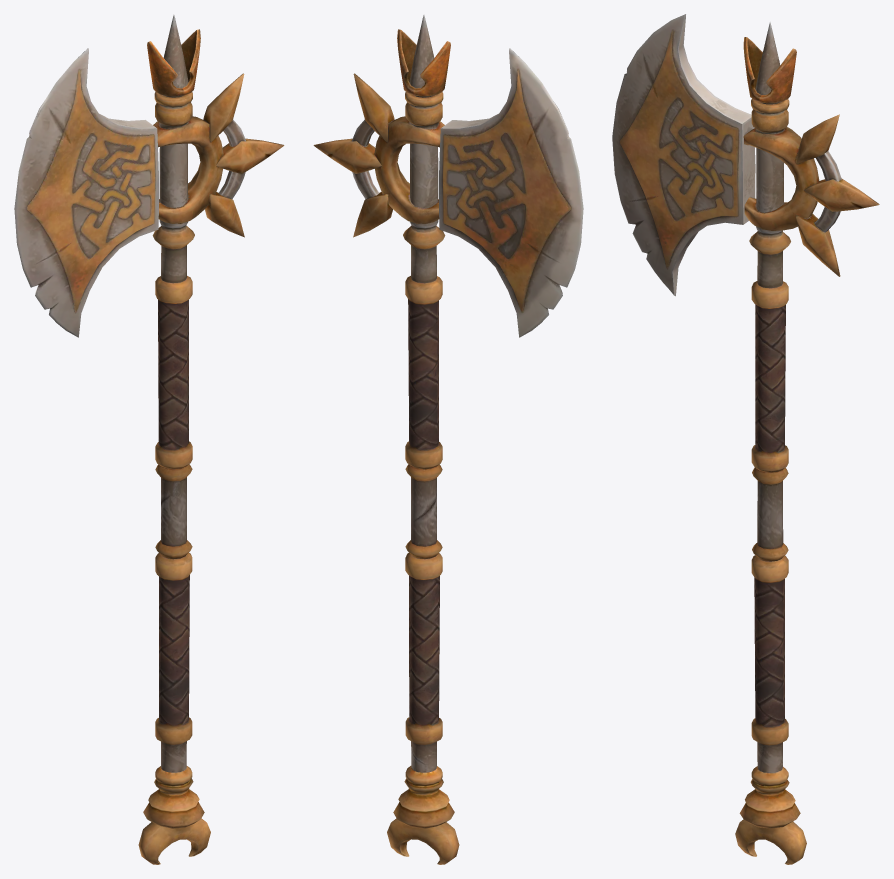
The picture shows the model from 3 angles, left to right: view 1: azimuth 30°, elevation 25°; view 2: azimuth 150°, elevation 25°; view 3: azimuth 330°, elevation 25°; orthographic projection.
Parts seen in each view (by area): view 1: SM_Greataxe_ThanesAuthority_2H_01_LOD0; view 2: SM_Greataxe_ThanesAuthority_2H_01_LOD0; view 3: SM_Greataxe_ThanesAuthority_2H_01_LOD0.
Boxes of the visible parts, left/top/right/bottom form: SM_Greataxe_ThanesAuthority_2H_01_LOD0: left=14, top=14, right=284, bottom=864; SM_Greataxe_ThanesAuthority_2H_01_LOD0: left=313, top=14, right=583, bottom=864; SM_Greataxe_ThanesAuthority_2H_01_LOD0: left=612, top=14, right=879, bottom=864.
Size of the model in its own units: 0.5588 by 1.68 by 0.1108.
1 material, 1 textured.
